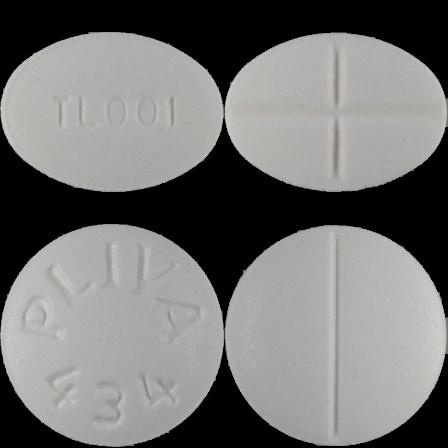49999-153: (0, 0, 224, 224)
